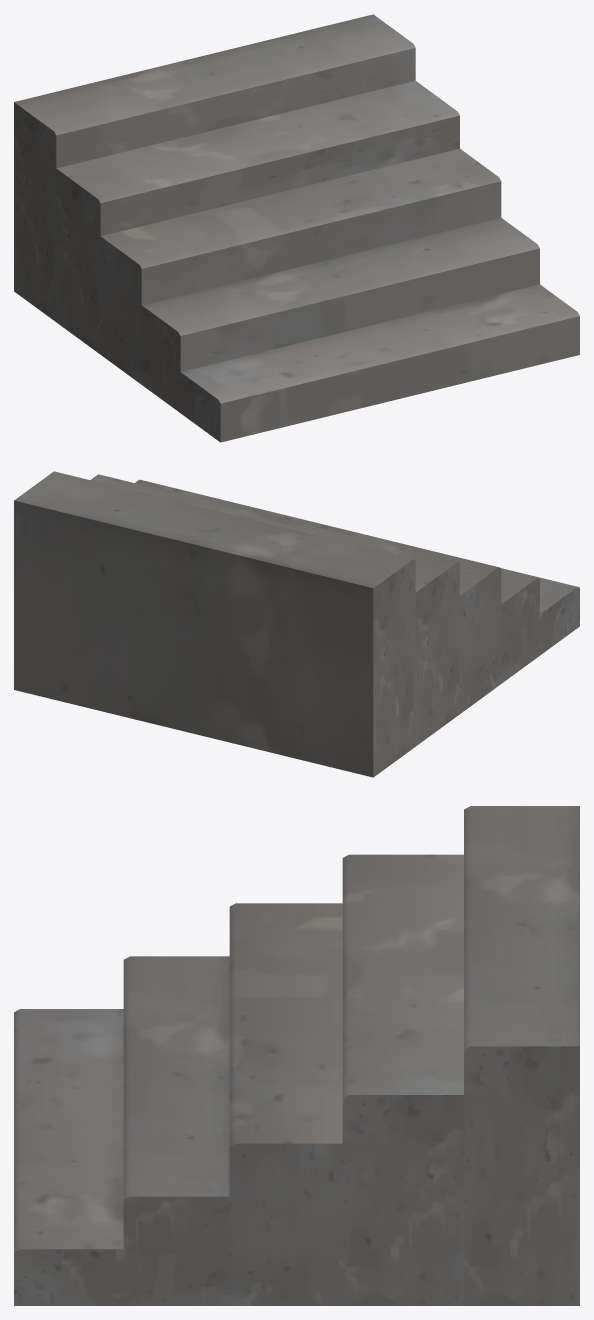
Rendered from Stairs_Entrance_Concrete.glb.
3 views of the same model, one above another, from view 1: azimuth 30°, elevation 25°; view 2: azimuth 150°, elevation 25°; view 3: azimuth 270°, elevation 25° (orthographic). The views are drawn at different scales.
Parts seen in each view (by area): view 1: Stairs_Entrance_Concrete; view 2: Stairs_Entrance_Concrete; view 3: Stairs_Entrance_Concrete.
Part boxes in pixels (bbox=[...]): Stairs_Entrance_Concrete: bbox=[14, 14, 579, 442]; Stairs_Entrance_Concrete: bbox=[14, 471, 579, 777]; Stairs_Entrance_Concrete: bbox=[14, 806, 579, 1305].
Size of the model in its own units: 2 by 1.01 by 1.99.
Materials: 2 (2 with a texture image).
